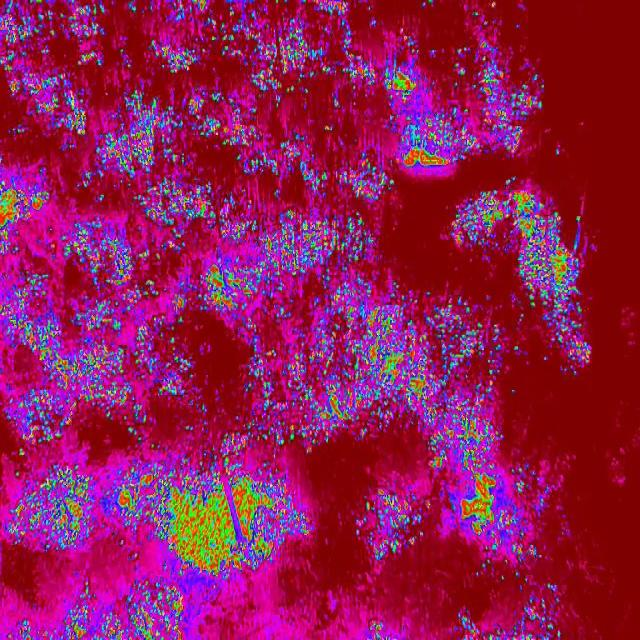fire: (0, 0, 313, 636), (313, 0, 540, 171), (312, 172, 397, 448), (428, 290, 508, 564), (515, 254, 591, 376), (456, 182, 583, 252), (360, 605, 560, 640), (510, 461, 560, 573), (359, 484, 428, 558), (398, 284, 428, 424)
